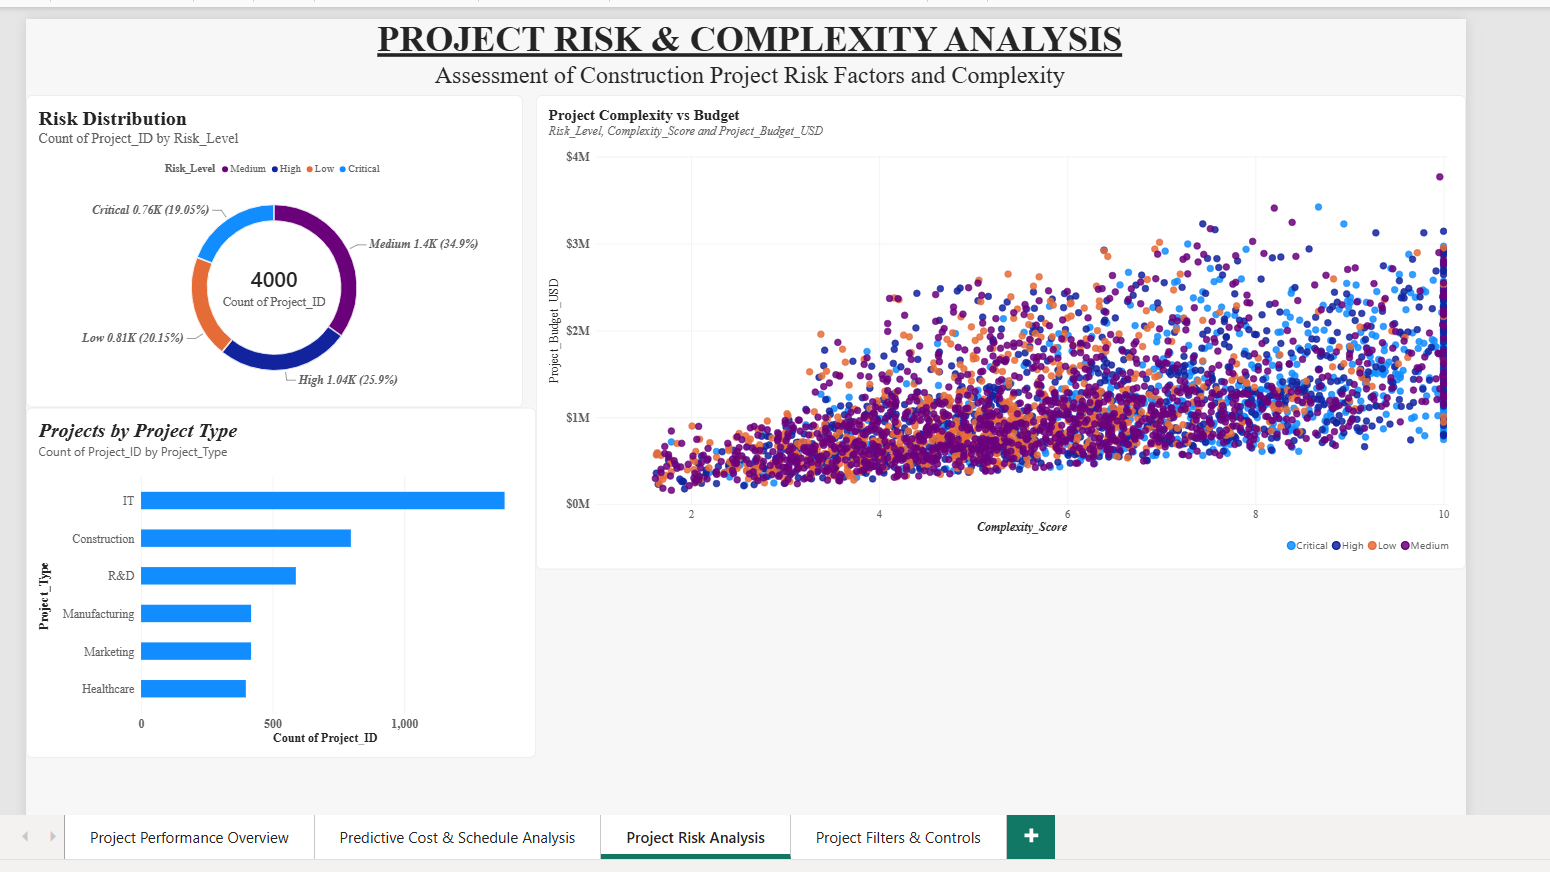

The page's visual inventory and layout, read from the dashboard file:
{"tool":"powerbi","page":{"name":"Project Risk Analysis","canvas":[1920,1080],"ordinal":2},"visuals":[{"type":"textbox","box":[10,0,1910,102],"z":0},{"type":"donutChart","title":"Risk Distribution","fields":{"Category":["project_risk_raw_dataset.Risk_Level"],"Y":["Count(project_risk_raw_dataset.Project_ID)"]},"box":[0,102,662,416],"z":1},{"type":"clusteredBarChart","title":"Projects by Project Type","fields":{"Category":["project_risk_raw_dataset.Project_Type"],"Y":["Count(project_risk_raw_dataset.Project_ID)"]},"box":[0,518,680,466],"z":2},{"type":"scatterChart","title":"Project Complexity vs Budget","fields":{"Series":["project_risk_raw_dataset.Risk_Level"],"X":["project_risk_raw_dataset.Complexity_Score"],"Y":["project_risk_raw_dataset.Project_Budget_USD"]},"box":[680,102,1240,632],"z":3}]}

Visuals, with their boxes on the page's 1920x1080 design canvas (x1, y1, x2, y2). These are canvas units, not pixel positions in the 1550x872 screenshot, which may show the page scaled, cropped or inside an application window:
textbox: bbox(10, 0, 1920, 102)
"Risk Distribution" donutChart: bbox(0, 102, 662, 518)
"Projects by Project Type" clusteredBarChart: bbox(0, 518, 680, 984)
"Project Complexity vs Budget" scatterChart: bbox(680, 102, 1920, 734)
